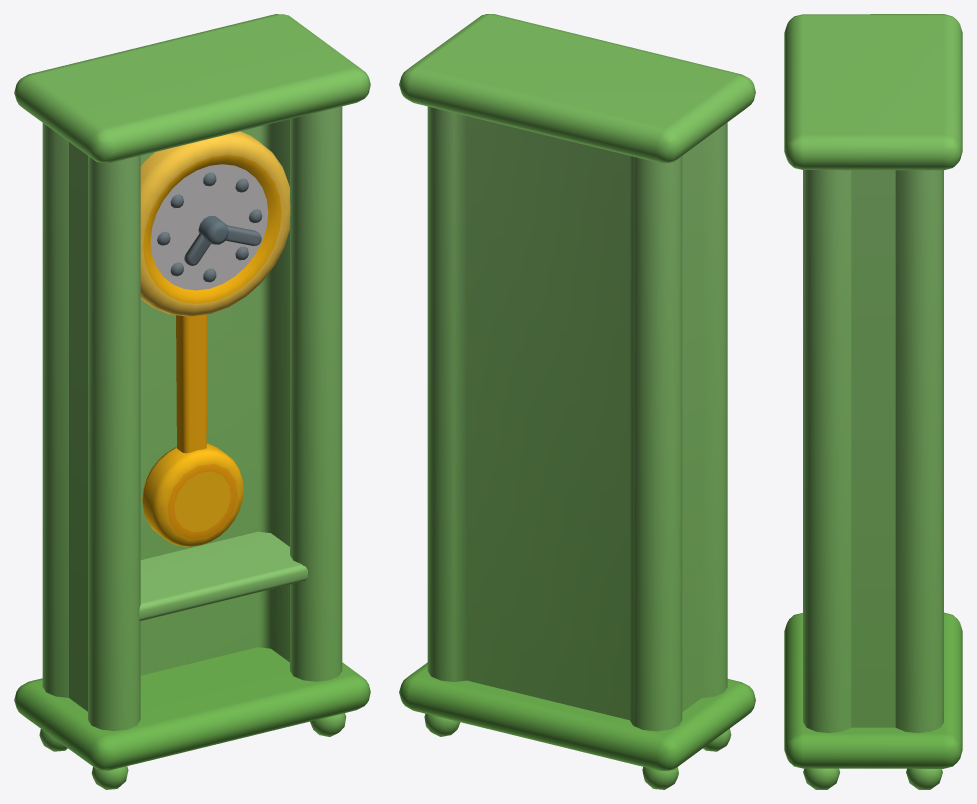
The model's file is Clock_05.glb.
3 renders of one model, left to right at view 1: azimuth 30°, elevation 25°; view 2: azimuth 150°, elevation 25°; view 3: azimuth 270°, elevation 25°, orthographic.
Visible parts, largest first — view 1: Clock_05; view 2: Clock_05; view 3: Clock_05.
Boxes of the visible parts, x1=… form: Clock_05: x1=14, y1=14, x2=370, y2=789; Clock_05: x1=399, y1=14, x2=755, y2=789; Clock_05: x1=784, y1=14, x2=962, y2=789.
Bounding box in the file's own units: 0.68 × 1.56 × 0.38.
Materials: 1 (1 with a texture image).
